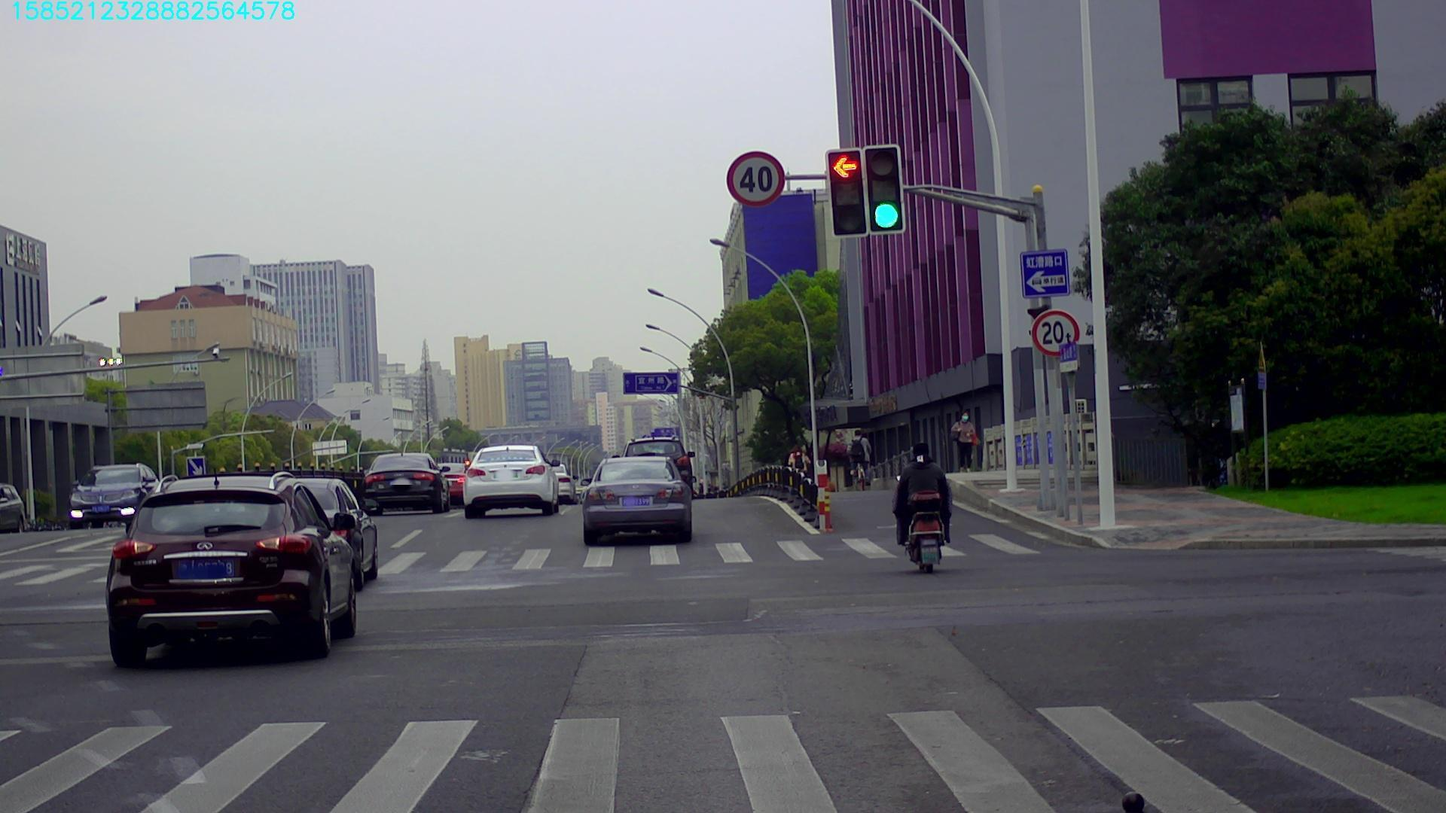green: (862, 147, 904, 231)
red: (827, 152, 866, 235)
